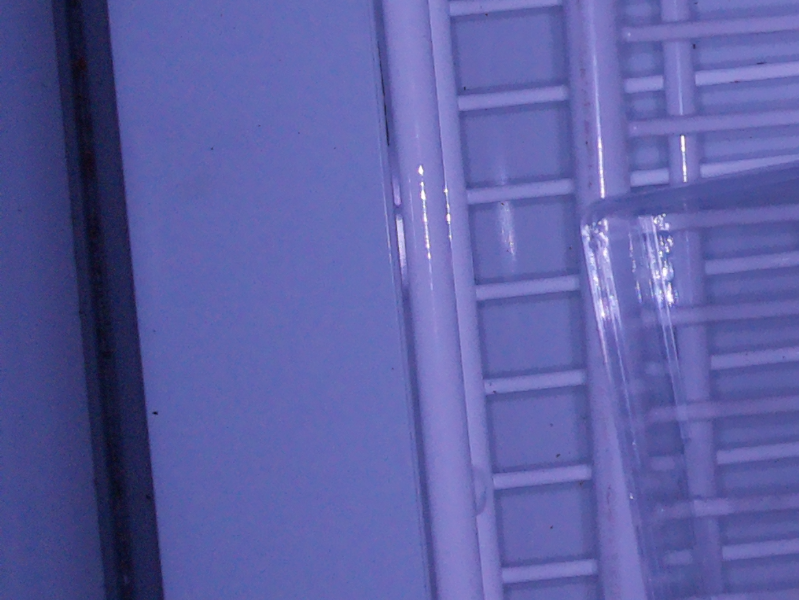plate: (573, 154, 799, 600)
